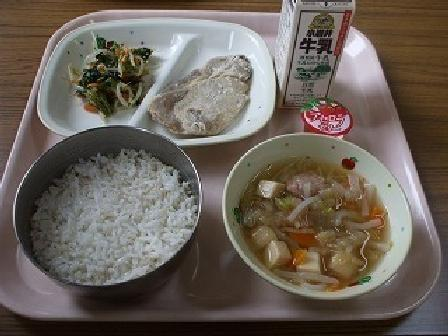Cup desserts: (292, 89, 361, 141)
Meat: (157, 46, 271, 133)
Milk: (267, 0, 364, 109)
Rice: (12, 137, 194, 283)
Salad: (63, 33, 148, 115)
Soups: (217, 142, 411, 307)
